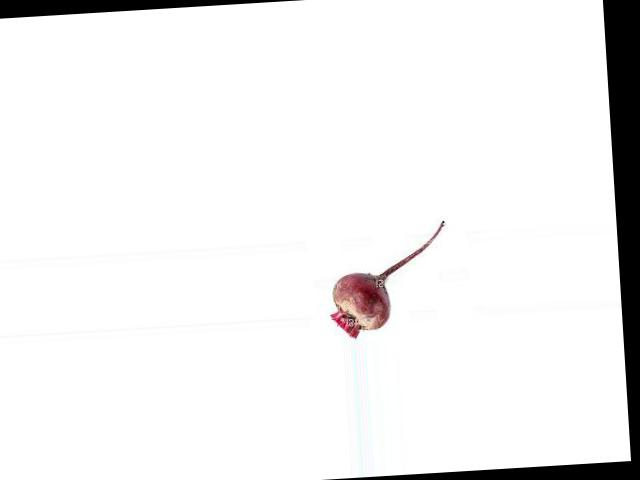beet: (326, 221, 451, 340)
